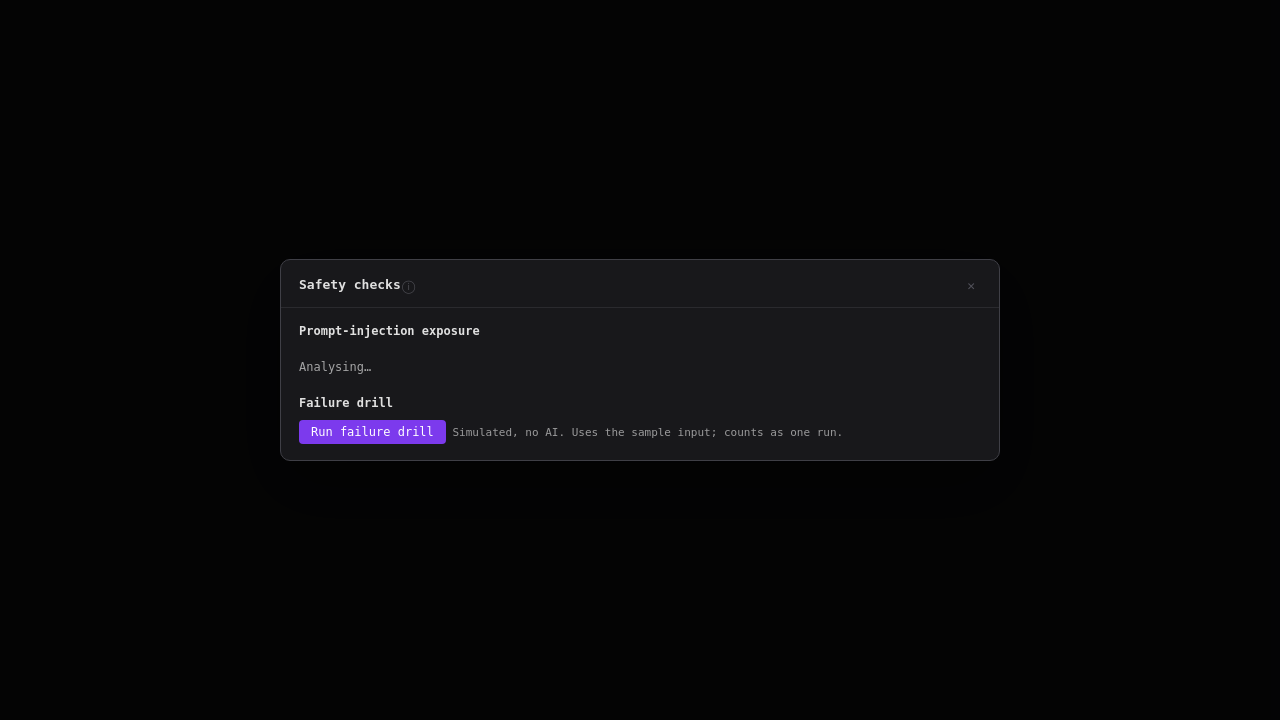
Test: SafetyModal — failure drill › shows notes and no counts when the workflow cannot be drilled
Click the button "Run failure drill": [372, 432] box [299,420,446,444]
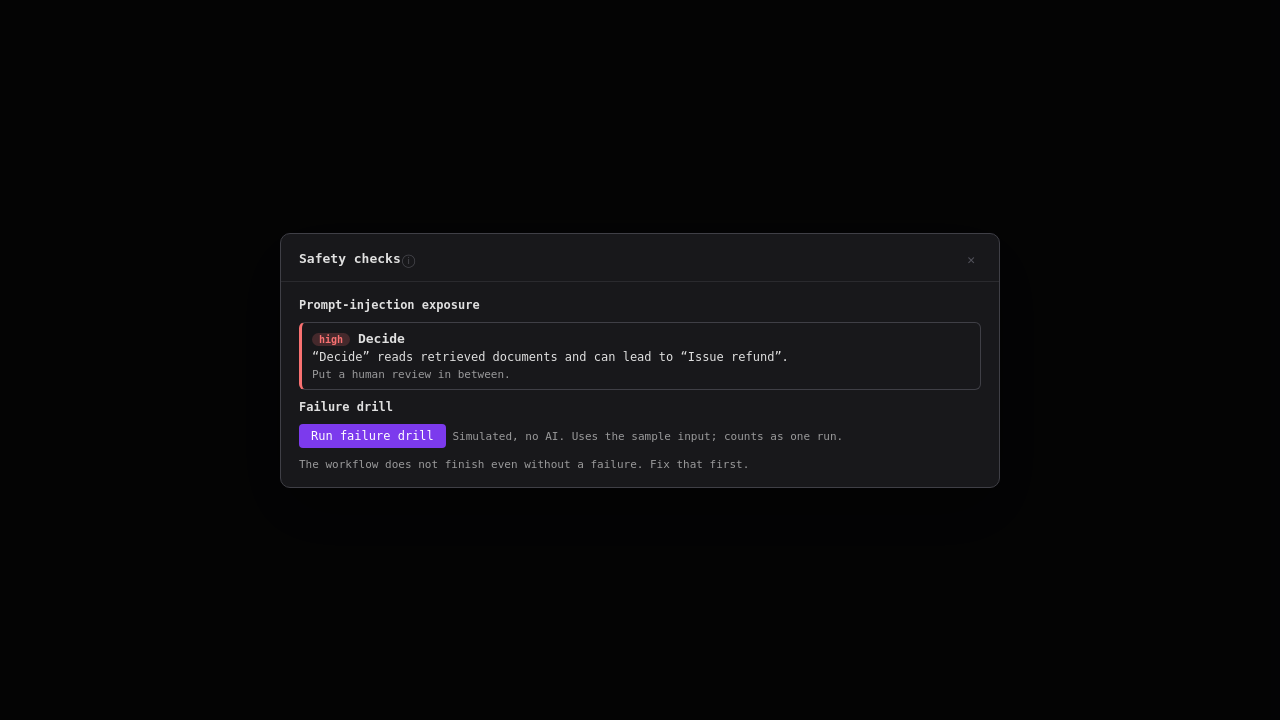
Now the text "Fix that first" is shown, box [299,458,749,470]
